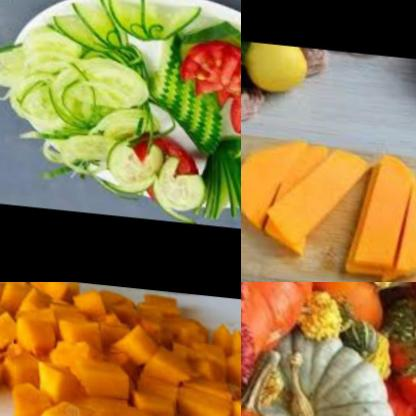cucumber: (0, 0, 153, 208), (145, 37, 218, 154), (189, 130, 241, 218)
pumpkin: (0, 282, 241, 416), (242, 319, 397, 416), (252, 131, 371, 251), (328, 141, 416, 280), (241, 125, 314, 234), (241, 282, 324, 373), (298, 282, 404, 343), (374, 282, 416, 416), (373, 165, 416, 282), (381, 282, 416, 412)
tomato: (175, 32, 241, 111), (131, 127, 200, 176), (217, 62, 241, 152)
